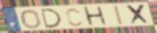C: (65, 7, 83, 27)
D: (40, 8, 63, 29)
H: (83, 6, 110, 28)
I: (113, 4, 125, 26)
O: (20, 9, 43, 30)
X: (125, 4, 151, 25)
